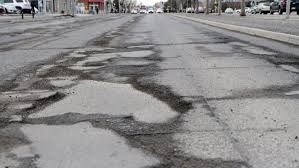pothole: (43, 77, 188, 126), (2, 69, 43, 166), (220, 34, 299, 77), (70, 42, 166, 75), (125, 131, 198, 168)
